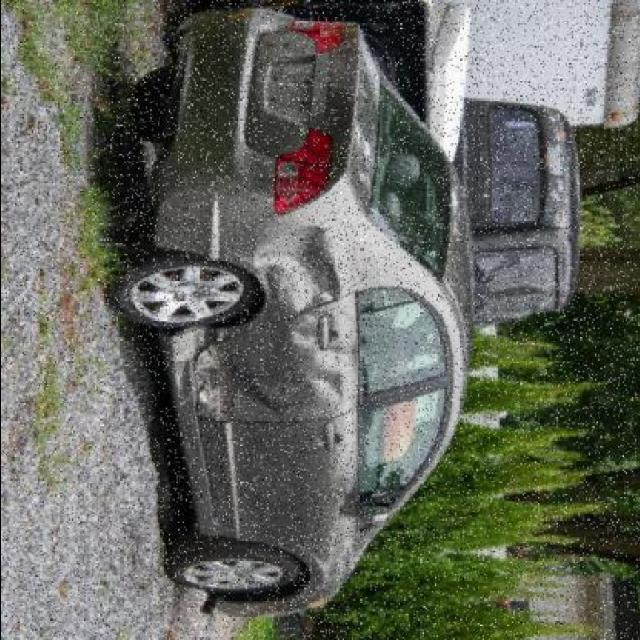doorouter-dent: (187, 306, 357, 422)
quaterpanel-dent: (208, 203, 357, 306)
